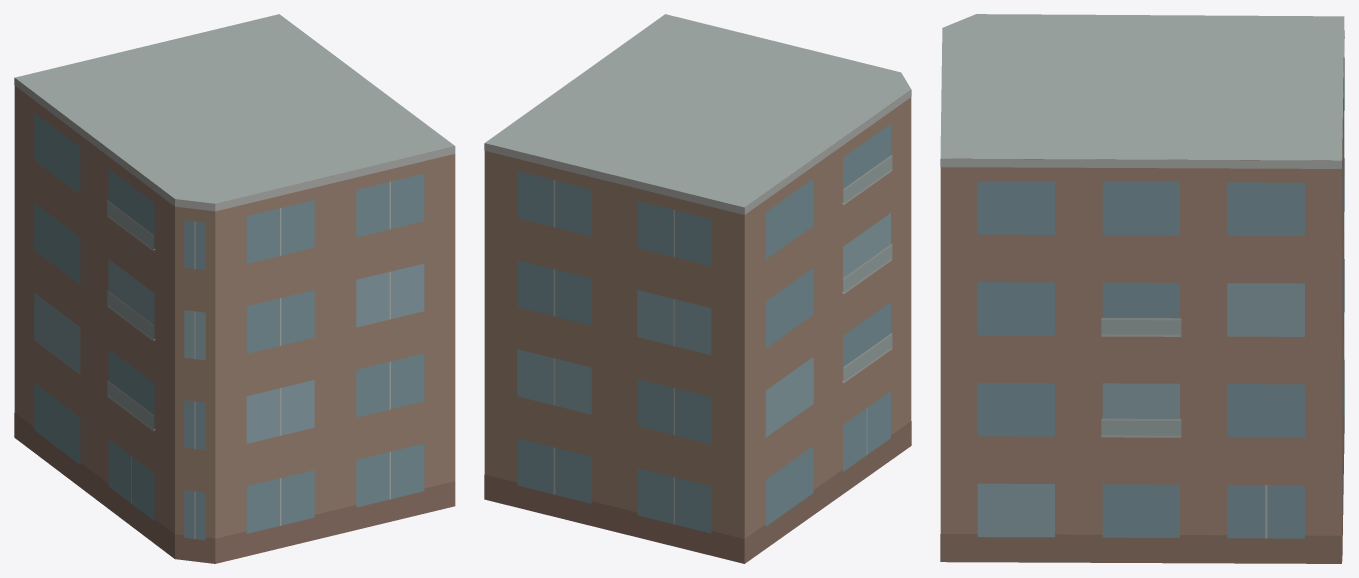
Rendered from survey-upis-32724061.glb.
3 views of the same model, side by side, from view 1: azimuth 30°, elevation 25°; view 2: azimuth 150°, elevation 25°; view 3: azimuth 270°, elevation 25° (orthographic). The views are drawn at different scales.
Parts seen in each view (by area): view 1: survey-upis-32724061.tmp; view 2: survey-upis-32724061.tmp; view 3: survey-upis-32724061.tmp.
Boxes of the visible parts, <box> form: survey-upis-32724061.tmp: <box>14,14,455,563</box>; survey-upis-32724061.tmp: <box>484,14,911,563</box>; survey-upis-32724061.tmp: <box>940,14,1344,563</box>.
Bounding box in the file's own units: 9.03 × 11.56 × 10.51.
